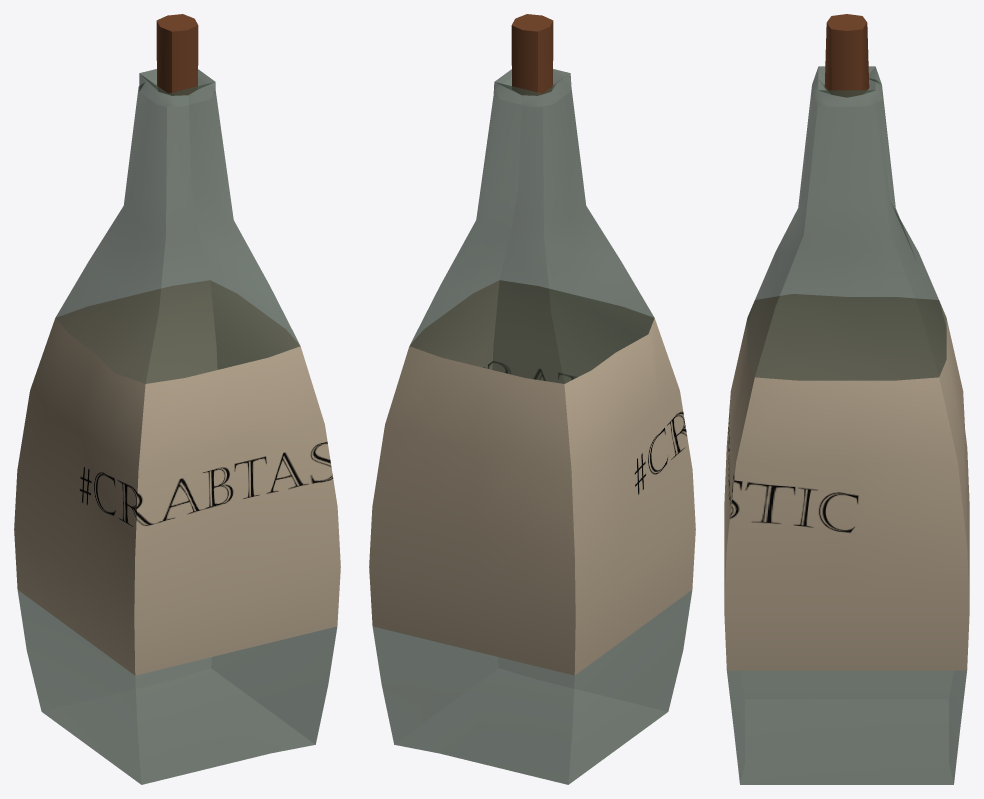
The model's file is Bottle.fbx.
3 views of the same model, side by side, from view 1: azimuth 30°, elevation 25°; view 2: azimuth 150°, elevation 25°; view 3: azimuth 270°, elevation 25° (orthographic). The views are drawn at different scales.
Parts seen in each view (by area): view 1: pCube7; view 2: pCube7; view 3: pCube7.
Boxes of the visible parts, x1=… form: pCube7: x1=14, y1=14, x2=340, y2=784; pCube7: x1=369, y1=14, x2=695, y2=784; pCube7: x1=724, y1=14, x2=969, y2=784.
Bounding box in the file's own units: 0.2223 × 0.7263 × 0.224.
3 materials, 1 textured.
